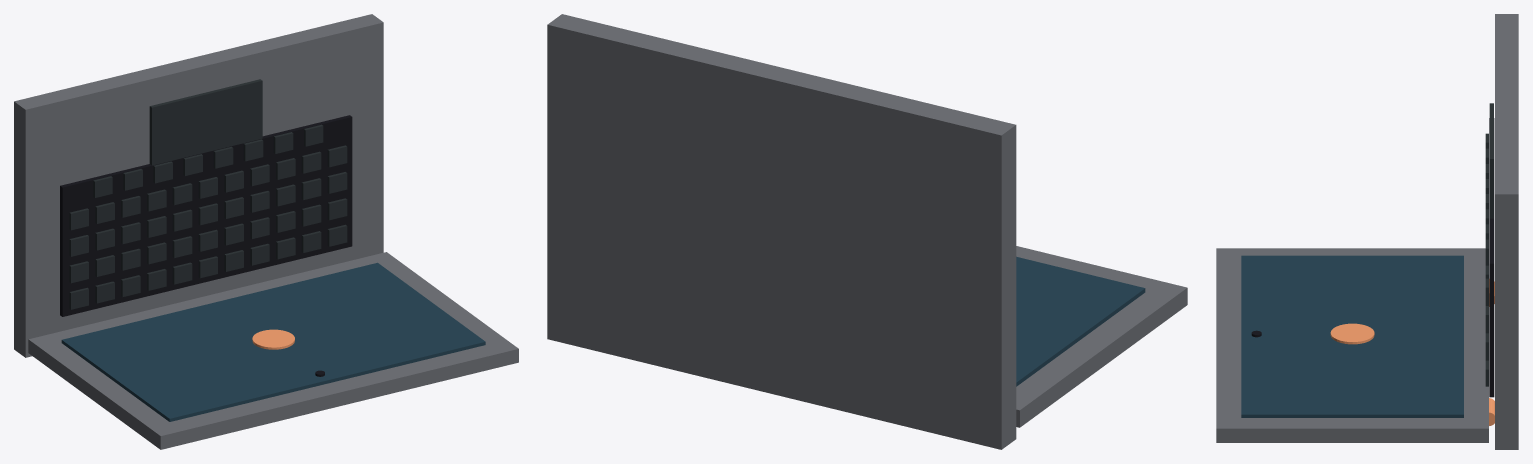
Rendered from laptop-3d.glb.
The picture shows the model from 3 angles, left to right: view 1: azimuth 30°, elevation 25°; view 2: azimuth 150°, elevation 25°; view 3: azimuth 270°, elevation 25°; orthographic projection. The views are drawn at different scales.
Parts seen in each view (by area): view 1: Laptop_Base, Screen, Keyboard, Laptop_Lid, Trackpad, Logo; view 2: Laptop_Base, Laptop_Lid, Screen; view 3: Screen, Laptop_Lid, Laptop_Base, Keyboard, Logo, Trackpad.
Part boxes in pixels (left/top/right/bottom): Laptop_Base: left=14, top=14, right=383, bottom=357; Screen: left=61, top=262, right=485, bottom=421; Keyboard: left=60, top=115, right=352, bottom=316; Laptop_Lid: left=28, top=252, right=518, bottom=449; Trackpad: left=149, top=79, right=262, bottom=165; Logo: left=252, top=329, right=294, bottom=349; Laptop_Base: left=547, top=14, right=1016, bottom=449; Laptop_Lid: left=1016, top=246, right=1187, bottom=427; Screen: left=1016, top=256, right=1145, bottom=386; Screen: left=1241, top=255, right=1463, bottom=417; Laptop_Lid: left=1216, top=248, right=1488, bottom=442; Laptop_Base: left=1495, top=14, right=1518, bottom=449; Keyboard: left=1489, top=118, right=1494, bottom=397; Logo: left=1330, top=323, right=1374, bottom=344; Trackpad: left=1489, top=103, right=1493, bottom=218.
Bounding box in the file's own units: 6.8 × 4.5 × 4.82.
